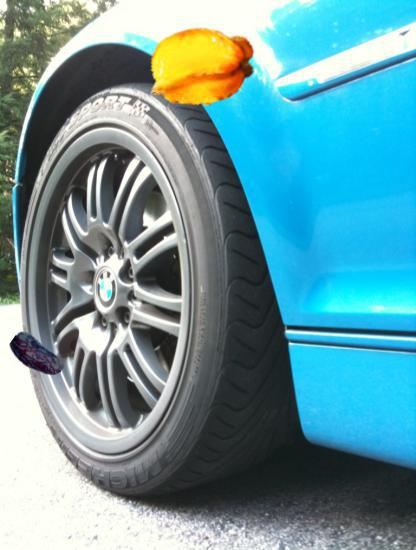Carambula: (144, 10, 258, 124)
Dates: (7, 327, 66, 386)
